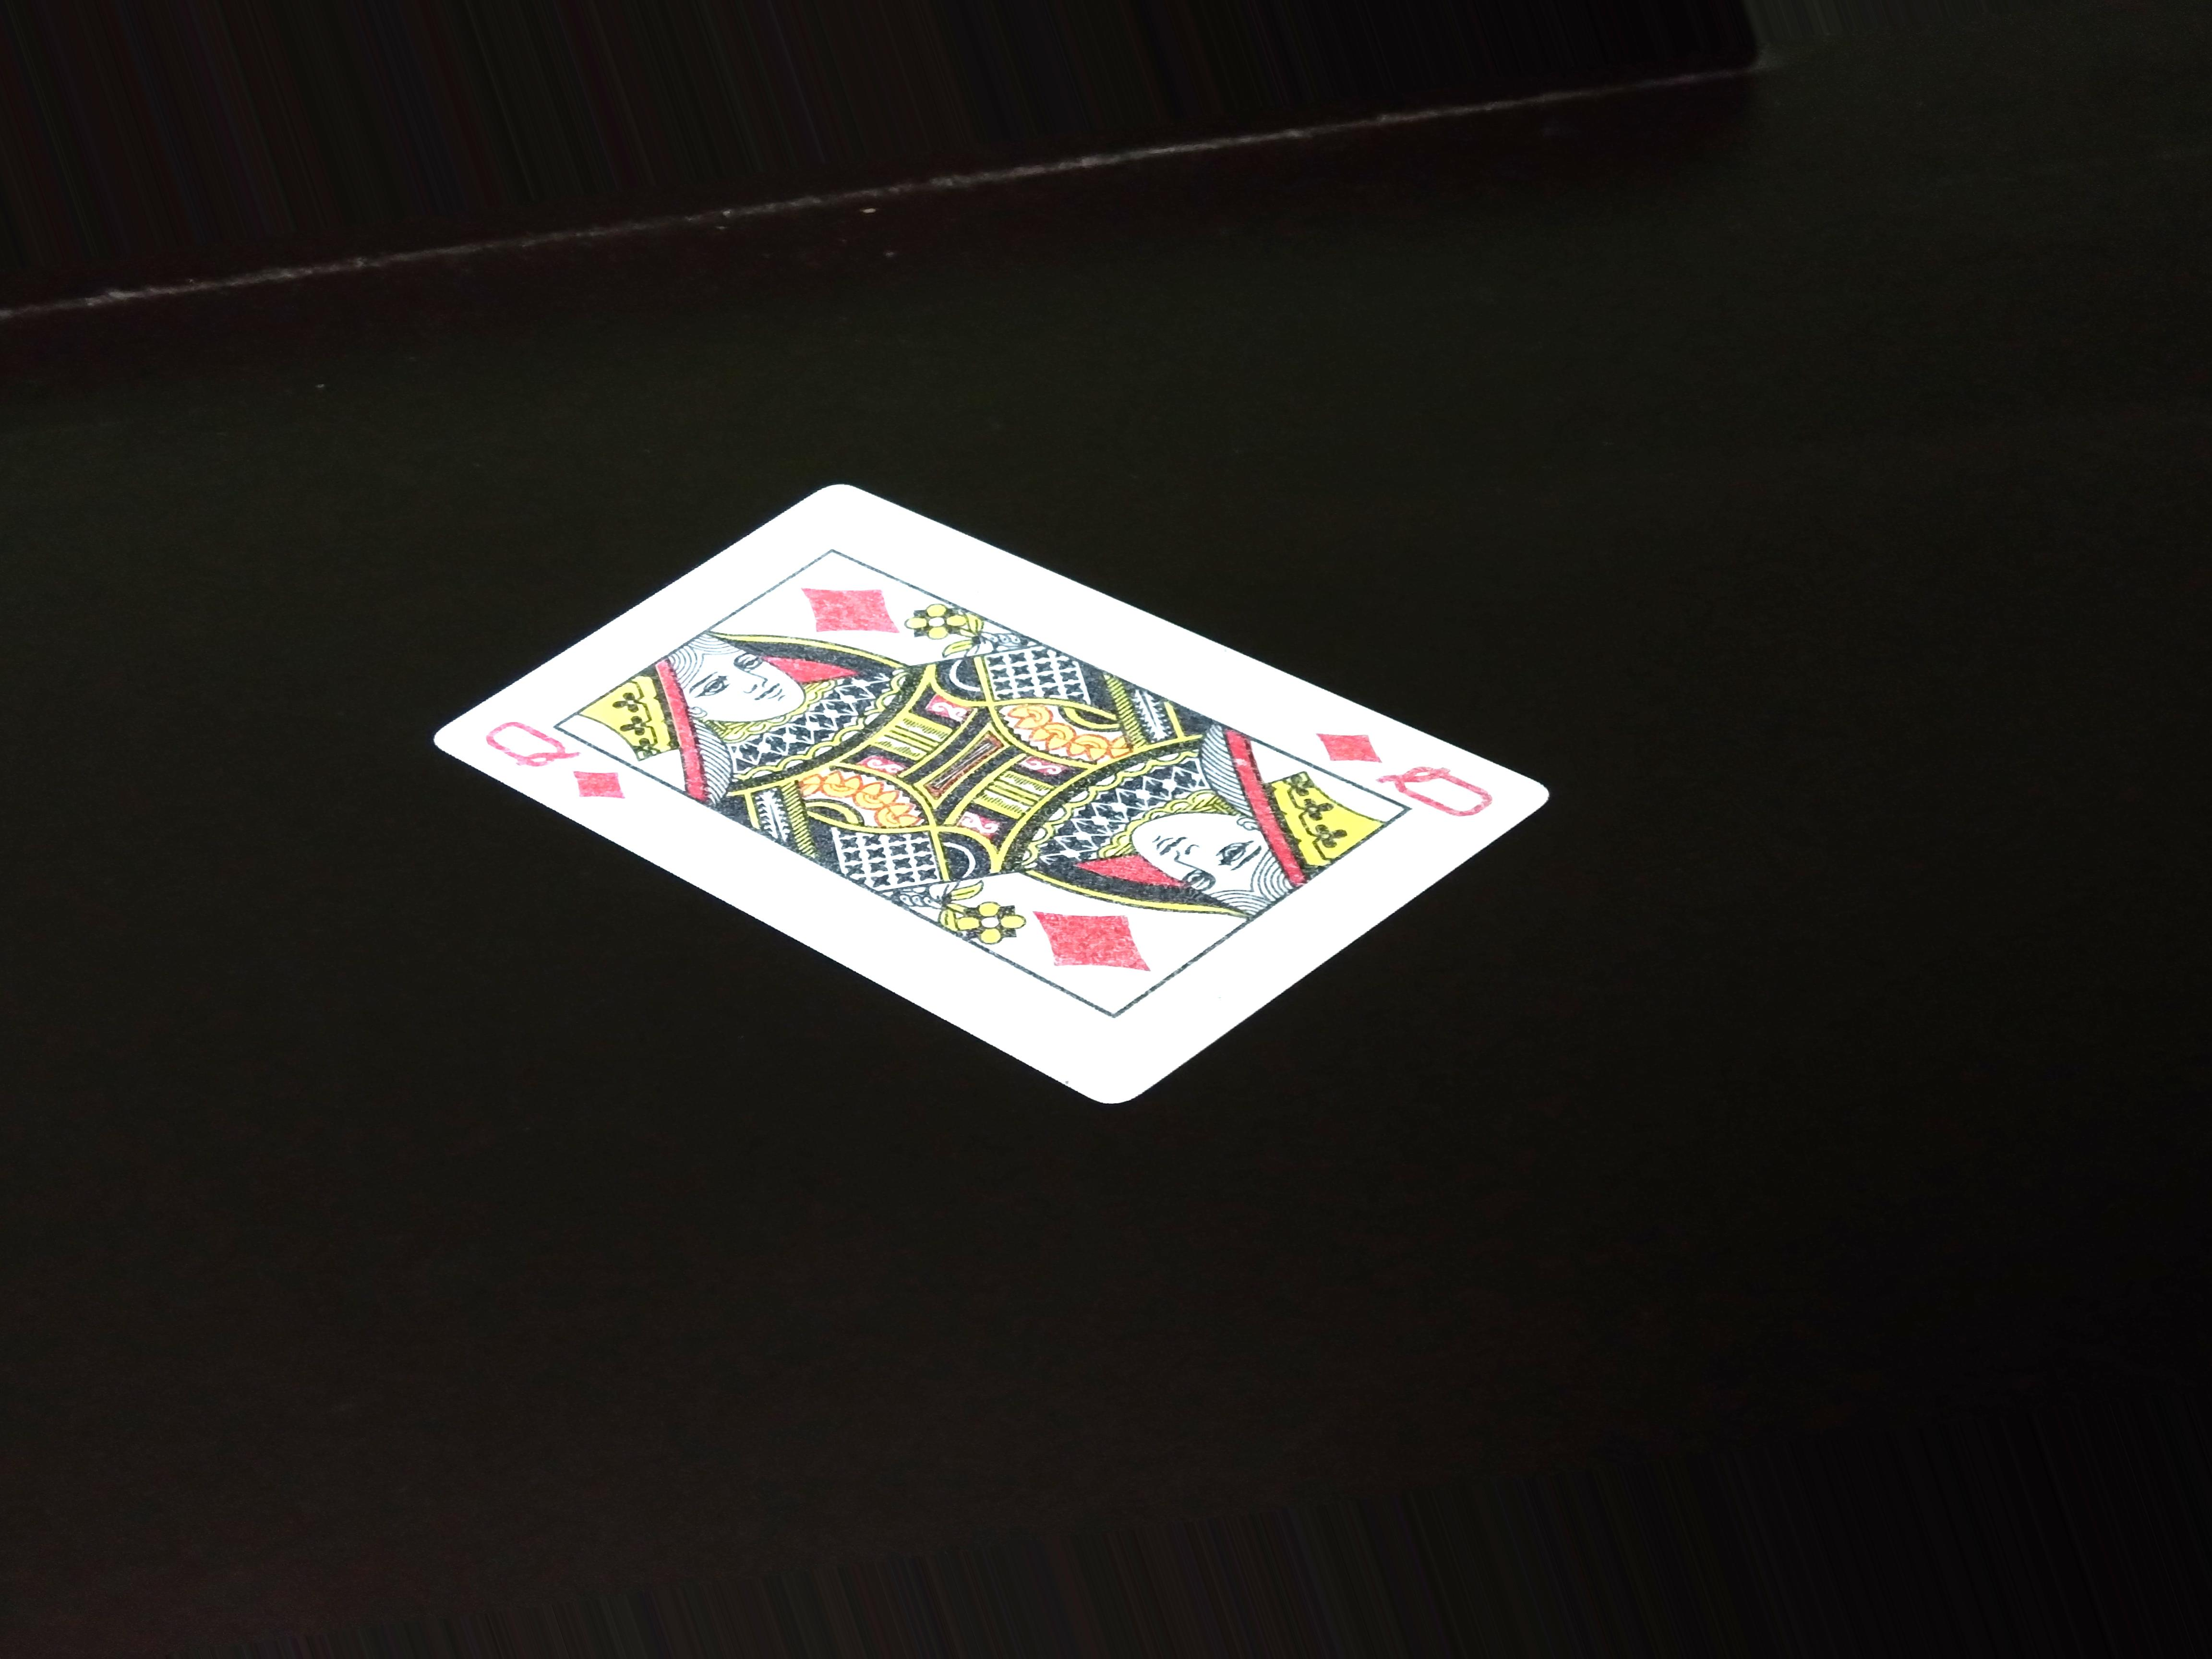QD: (475, 709, 627, 807)
